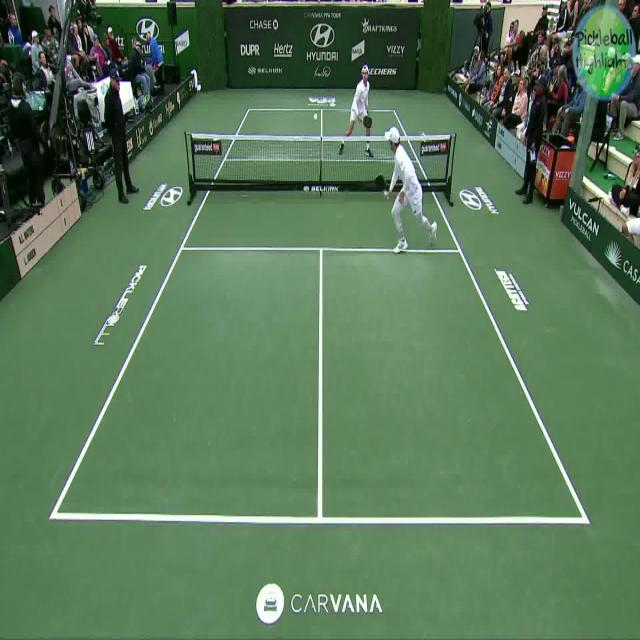ball: (313, 109, 317, 121)
